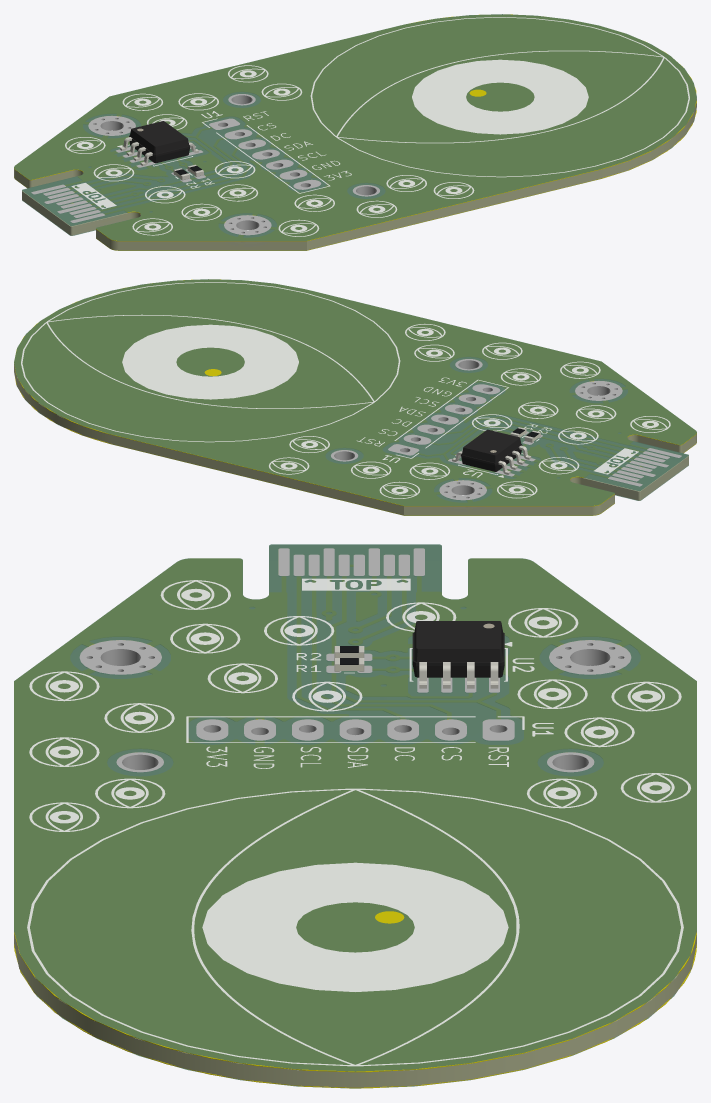
The model's file is screen-hexpansion.glb.
The picture shows the model from 3 angles, top to bottom: view 1: azimuth 30°, elevation 25°; view 2: azimuth 150°, elevation 25°; view 3: azimuth 270°, elevation 25°; orthographic projection. The views are drawn at different scales.
Visible parts, largest first — view 1: =>[0:1:1:9], =>[0:1:1:3]; view 2: =>[0:1:1:9], =>[0:1:1:3]; view 3: =>[0:1:1:9], =>[0:1:1:3].
Boxes of the visible parts, box(x1,y1,x2,y2) form: =>[0:1:1:9]: box(14, 14, 696, 250); =>[0:1:1:3]: box(14, 14, 696, 250); =>[0:1:1:9]: box(14, 279, 696, 515); =>[0:1:1:3]: box(14, 279, 696, 515); =>[0:1:1:9]: box(14, 544, 696, 1088); =>[0:1:1:3]: box(14, 548, 696, 1088).
Bounding box in the file's own units: 0.0664 × 0.00282 × 0.0364.
Materials: 2 (2 with a texture image).
